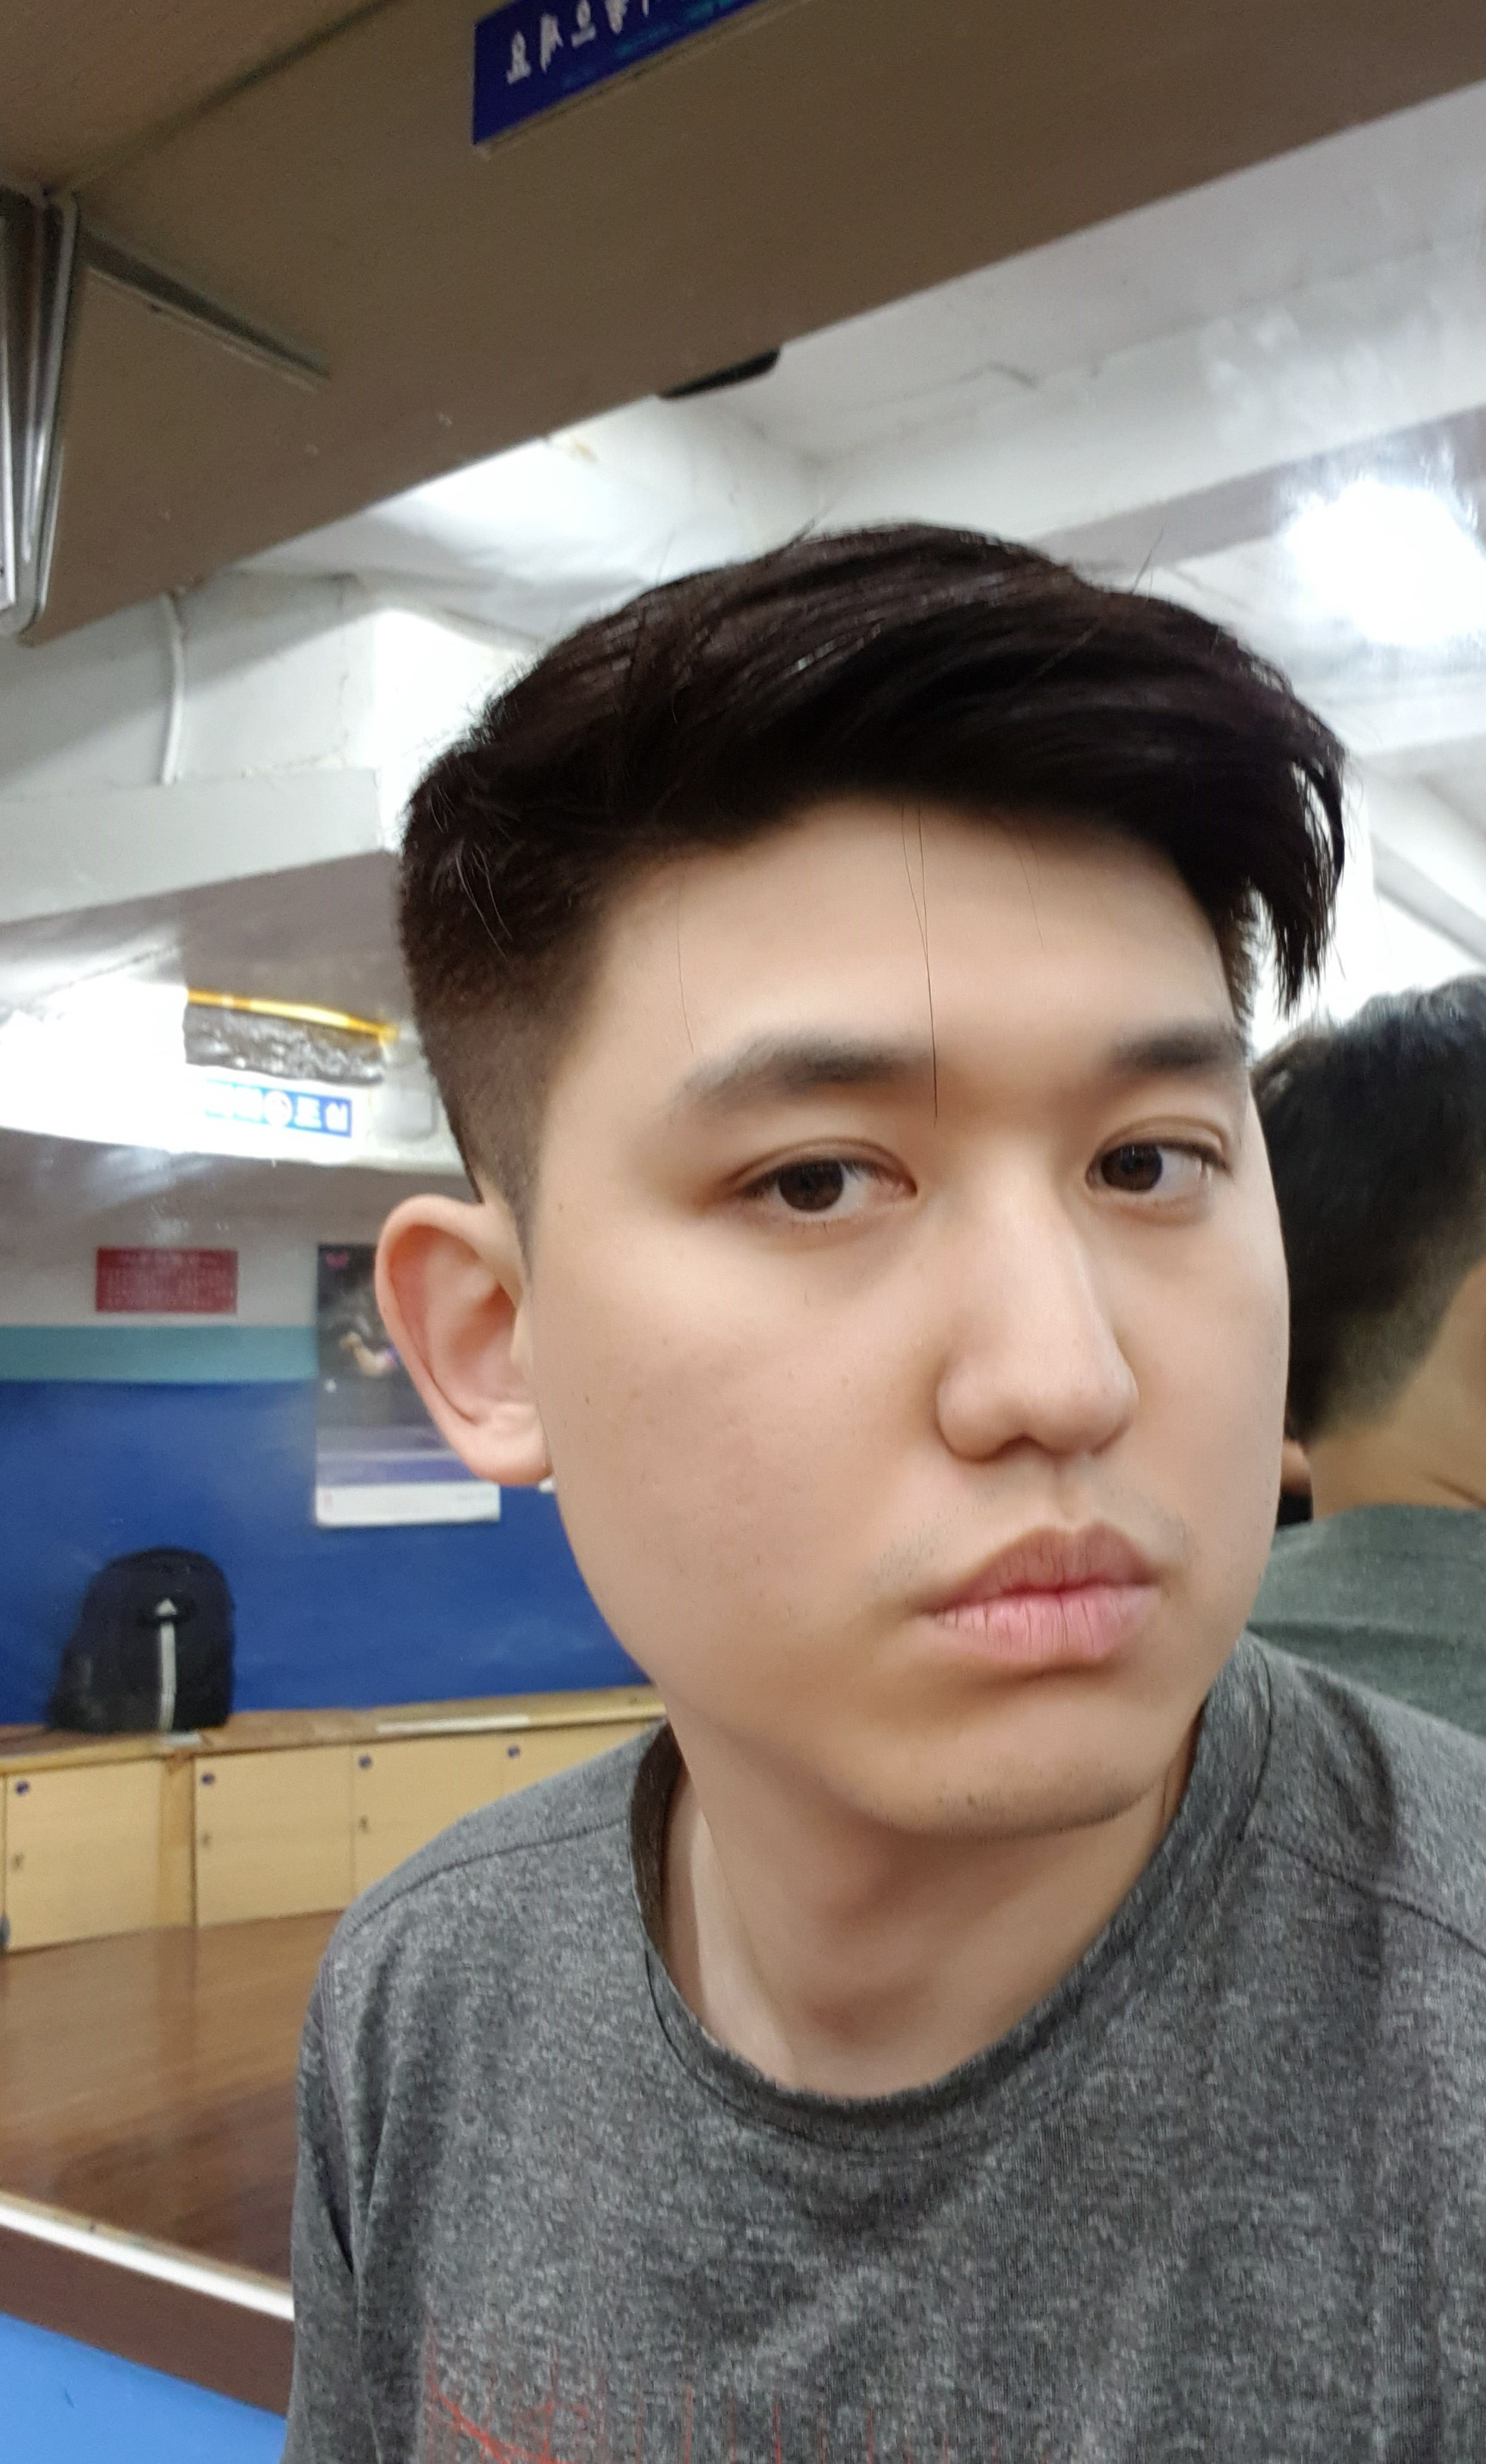nomask: (617, 881, 1265, 1725)
